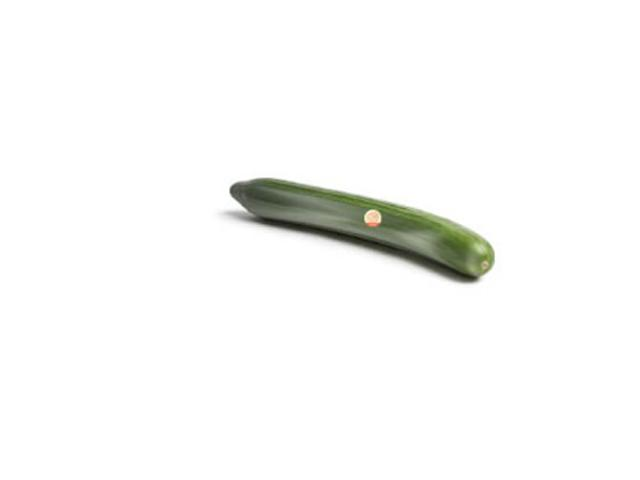cucumber: (229, 178, 496, 277)
